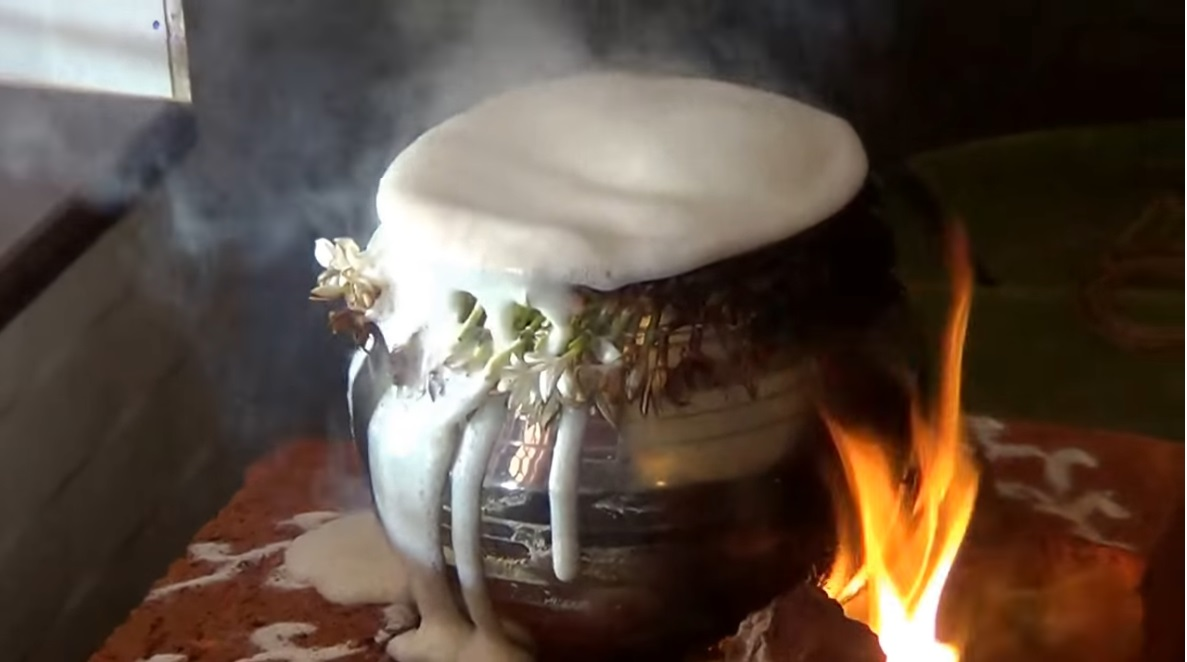Boiled: (316, 52, 865, 625)
